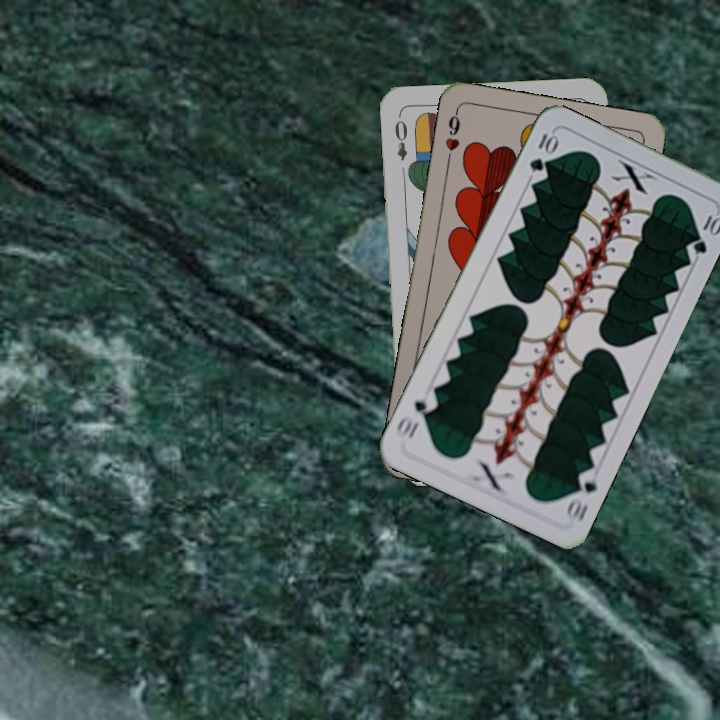EO: (390, 111, 410, 163)
G10: (563, 465, 601, 526), (525, 127, 560, 175)
H9: (441, 106, 463, 165)
